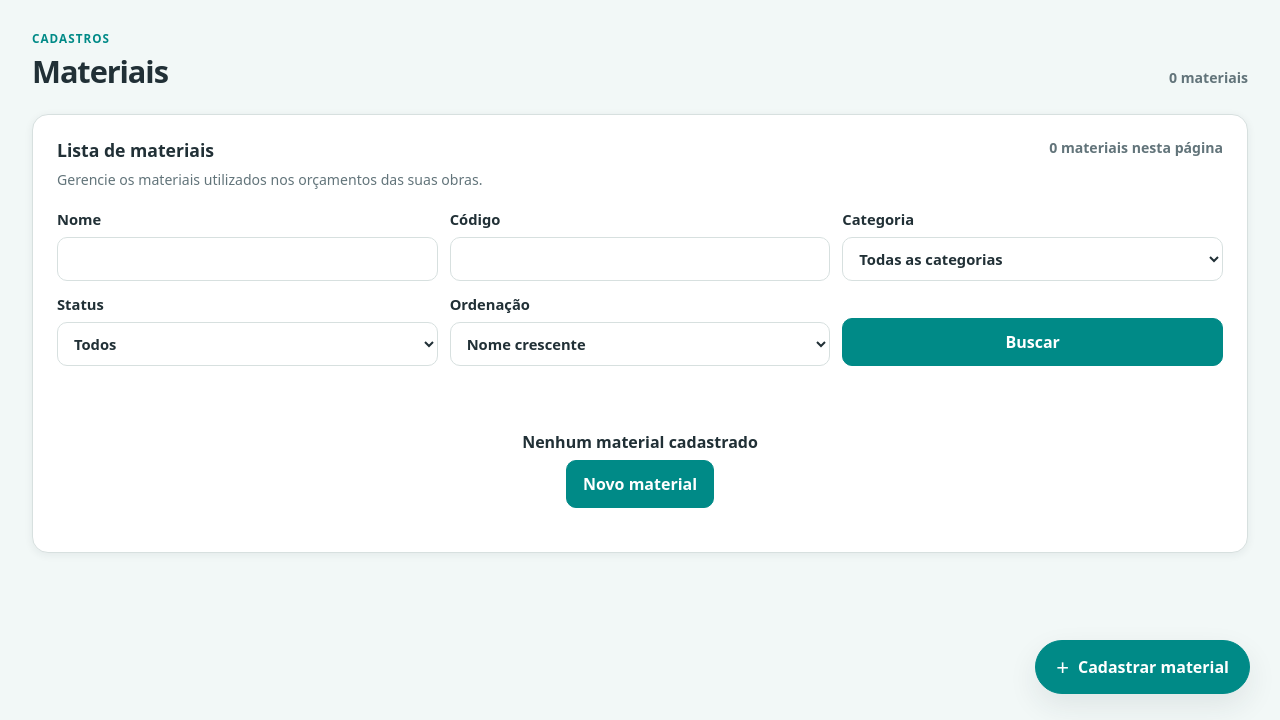
Scenario: MaterialListPage › shows loading, an empty state and navigates to registration
expect the heading "Nenhum material cadastrado" is shown: met, box [522, 431, 758, 453]
Click the link "Novo material".
click(640, 484)  # box [566, 460, 714, 508]
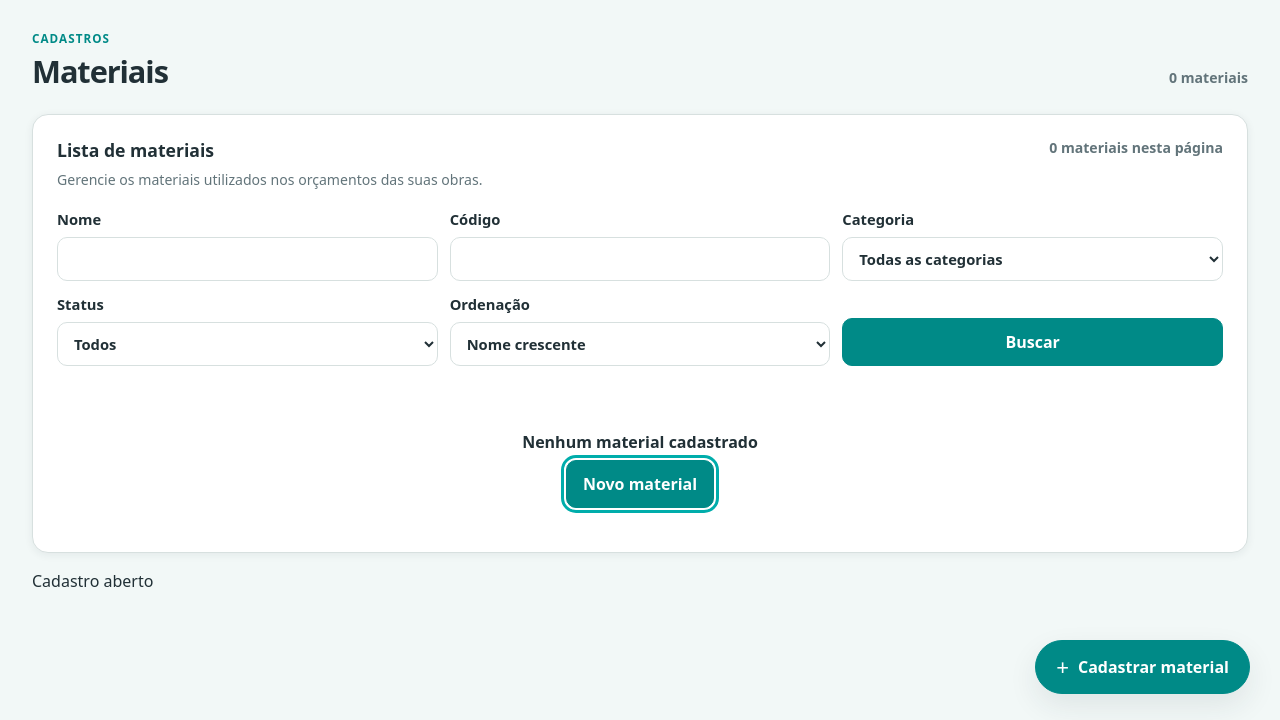
expect the text "Cadastro aberto" is shown: met, box [32, 570, 153, 592]
